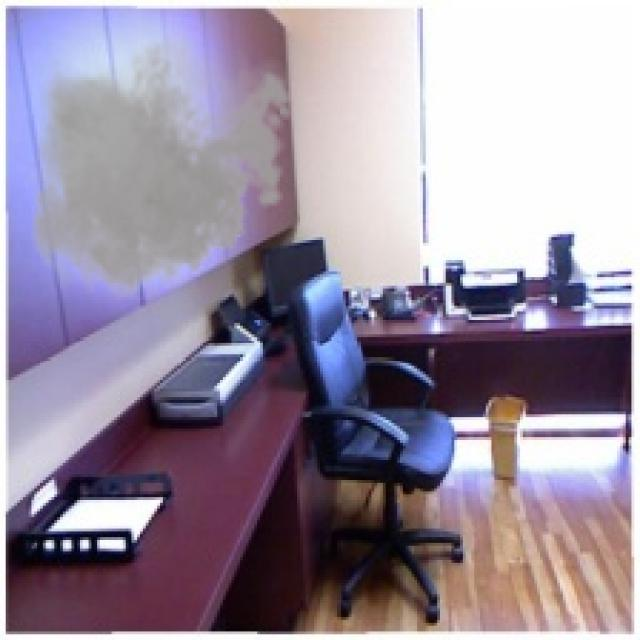smoke: (20, 25, 300, 308)
